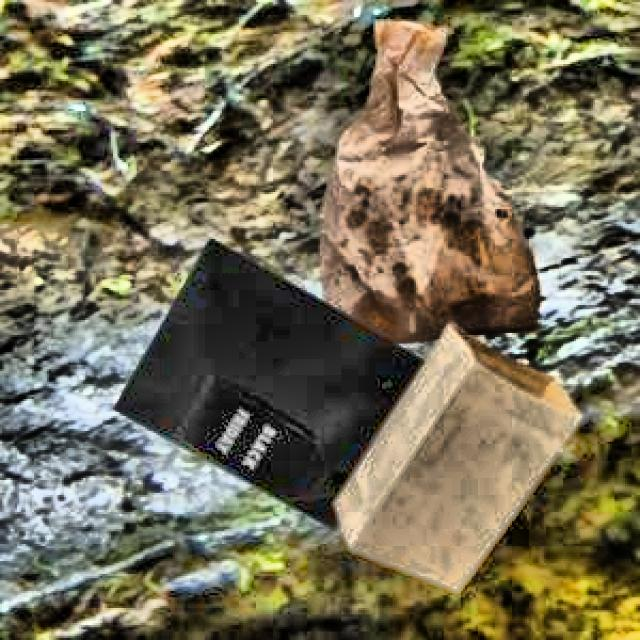Paper-bag: (298, 6, 550, 338), (334, 328, 575, 589)
